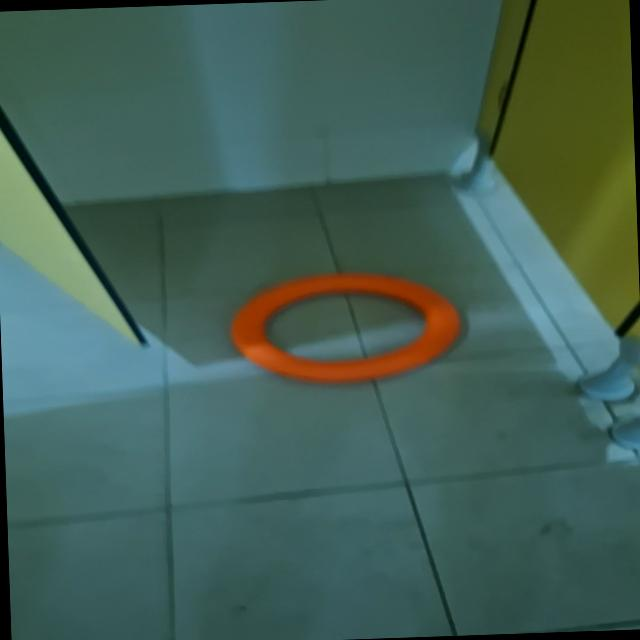note: (227, 266, 463, 388)
